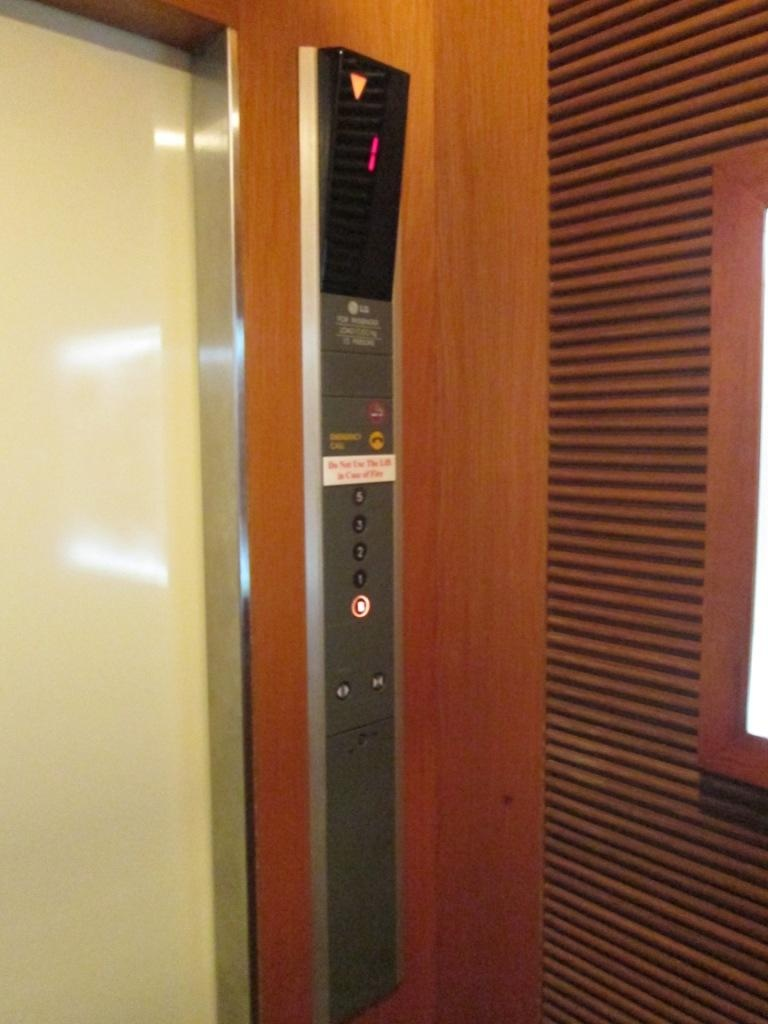1: (352, 568, 368, 590)
2: (352, 541, 367, 563)
3: (352, 513, 368, 533)
5: (350, 487, 367, 505)
blur: (350, 594, 372, 620), (365, 397, 386, 423)
call: (368, 428, 385, 450)
close: (369, 671, 386, 692)
led: (317, 46, 411, 303)
open: (334, 681, 352, 700)
